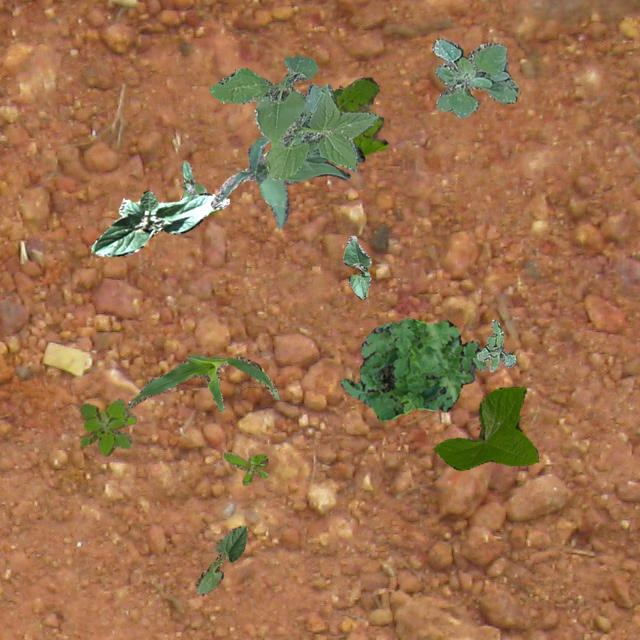crop: (210, 134, 364, 228), (90, 190, 228, 256), (125, 354, 278, 412), (433, 386, 538, 470), (194, 524, 247, 594), (342, 235, 370, 298)
weed: (208, 54, 378, 180), (338, 316, 486, 419), (432, 38, 516, 118), (332, 76, 386, 154), (78, 398, 136, 456), (476, 318, 516, 371), (222, 452, 266, 484), (180, 160, 204, 197)
